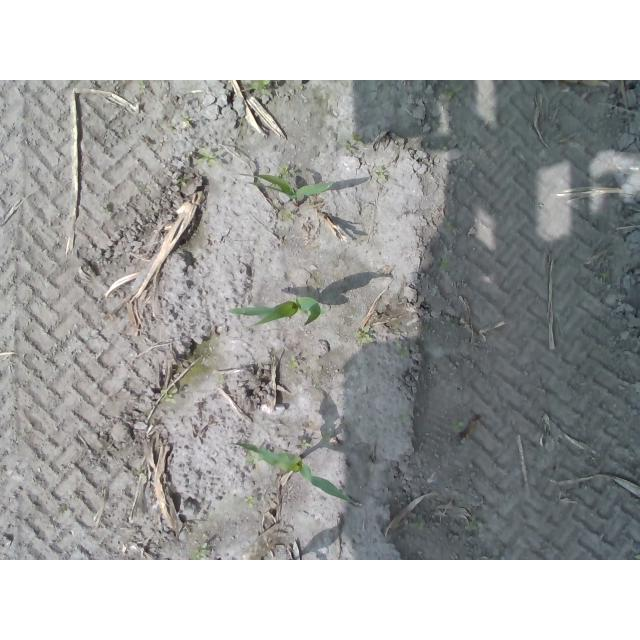Maize: (230, 439, 359, 506), (233, 170, 335, 203), (225, 294, 323, 327)
Weeds: (344, 133, 364, 154), (352, 325, 373, 343), (198, 150, 219, 168), (191, 541, 210, 560), (396, 342, 409, 358), (278, 164, 294, 176), (250, 80, 271, 89), (242, 496, 256, 508), (444, 89, 457, 101), (180, 115, 193, 125), (453, 419, 464, 430), (163, 391, 175, 401), (288, 358, 299, 368), (375, 169, 385, 179), (138, 80, 147, 89)
